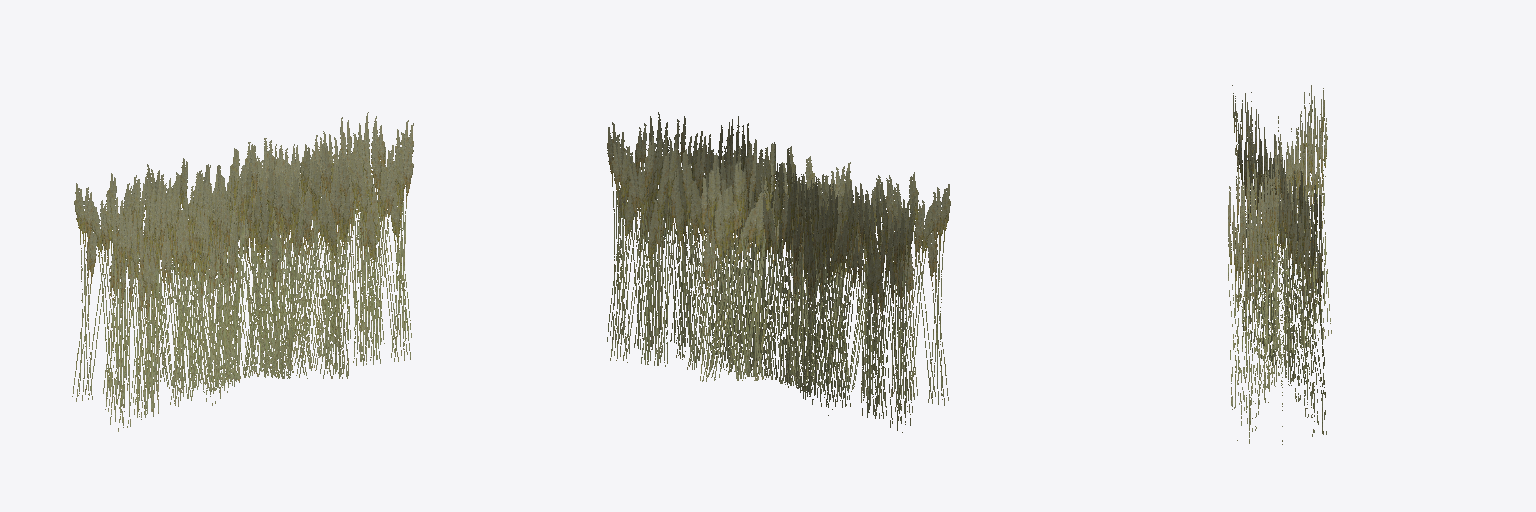
3 views of the same model, side by side, from view 1: azimuth 30°, elevation 25°; view 2: azimuth 150°, elevation 25°; view 3: azimuth 270°, elevation 25° (orthographic).
Visible parts, largest first — view 1: polySurface3; view 2: polySurface3; view 3: polySurface3.
Boxes of the visible parts, x1=… form: polySurface3: x1=72, y1=112, x2=413, y2=431; polySurface3: x1=607, y1=112, x2=950, y2=432; polySurface3: x1=1228, y1=85, x2=1331, y2=444.
Bounding box in the file's own units: 37.76 × 26.54 × 10.65.
Materials: 1 (1 with a texture image).